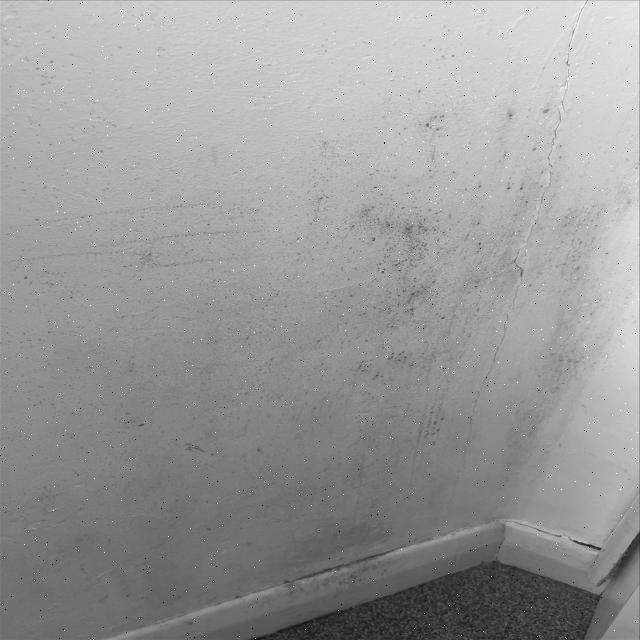stain marks: (0, 41, 640, 614)
